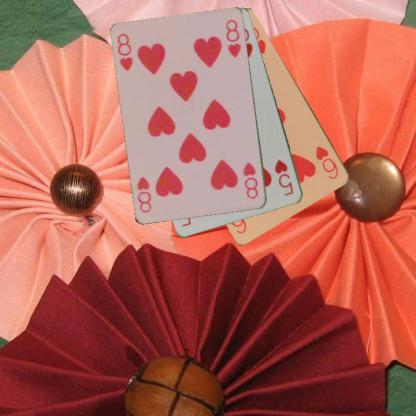5h: (272, 156, 295, 198)
6h: (313, 143, 340, 181)
8h: (115, 30, 135, 72), (240, 160, 260, 200)
